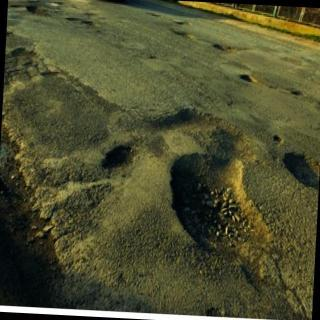pothole: (170, 154, 272, 275), (282, 153, 320, 190), (102, 146, 132, 168), (240, 74, 258, 83)
